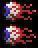eye: (0, 23, 37, 47), (0, 0, 36, 22)
